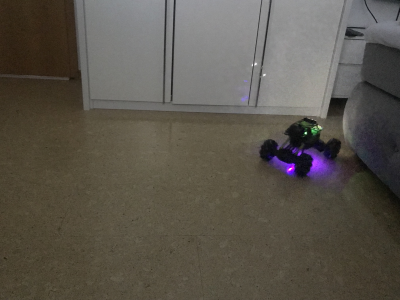remote control car: (257, 113, 343, 179)
